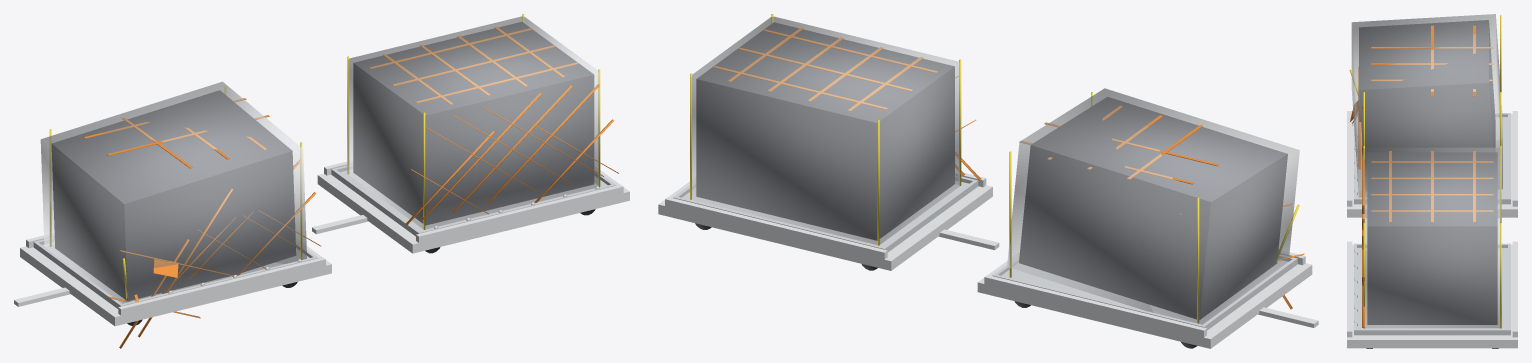
Rendered from NetPalletAirCargo.fbx.
The picture shows the model from 3 angles, left to right: view 1: azimuth 30°, elevation 25°; view 2: azimuth 150°, elevation 25°; view 3: azimuth 270°, elevation 25°; orthographic projection. The views are drawn at different scales.
Parts seen in each view (by area): view 1: Hazard_PMC_Pallet_SlippedNet, NonHazard_PMC_Pallet_Secured; view 2: Hazard_PMC_Pallet_SlippedNet, NonHazard_PMC_Pallet_Secured; view 3: NonHazard_PMC_Pallet_Secured, Hazard_PMC_Pallet_SlippedNet.
Boxes of the visible parts, <box> form: Hazard_PMC_Pallet_SlippedNet: <box>14,81,331,348</box>; NonHazard_PMC_Pallet_Secured: <box>312,14,629,253</box>; Hazard_PMC_Pallet_SlippedNet: <box>977,88,1318,348</box>; NonHazard_PMC_Pallet_Secured: <box>658,14,999,270</box>; NonHazard_PMC_Pallet_Secured: <box>1347,146,1517,348</box>; Hazard_PMC_Pallet_SlippedNet: <box>1347,14,1517,217</box>.
Bounding box in the file's own units: 913 × 259 × 265.
